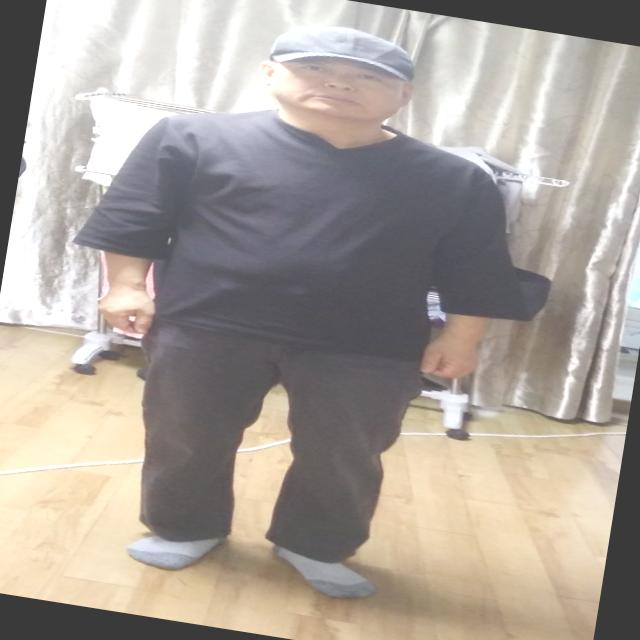denimpants: (111, 304, 422, 566)
longsleeve: (68, 80, 552, 370)
